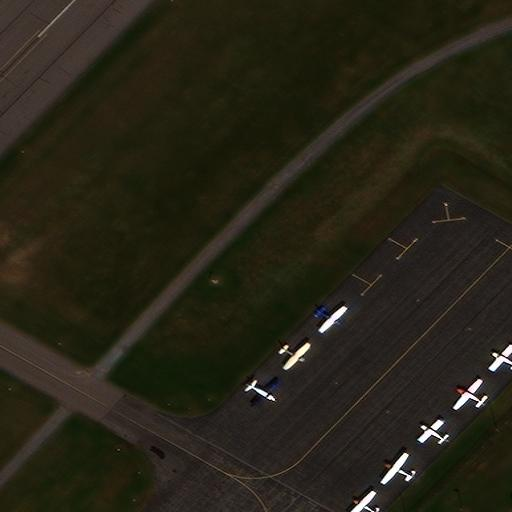Small Civil Transport: (379, 451, 413, 482), (451, 378, 485, 407), (245, 382, 282, 407), (317, 307, 348, 333), (416, 418, 449, 442), (281, 346, 311, 370), (348, 490, 377, 511), (487, 343, 511, 368)
